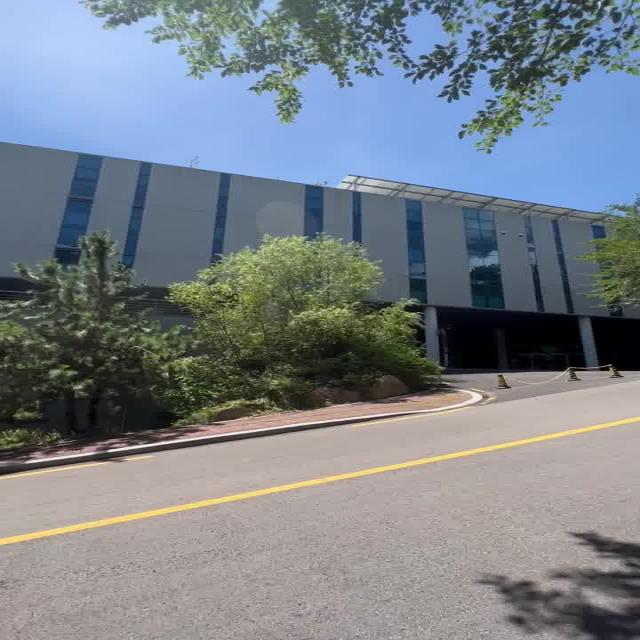building: (0, 128, 604, 314)
